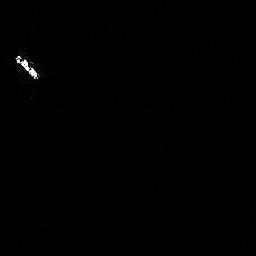ship: (14, 53, 41, 83)
